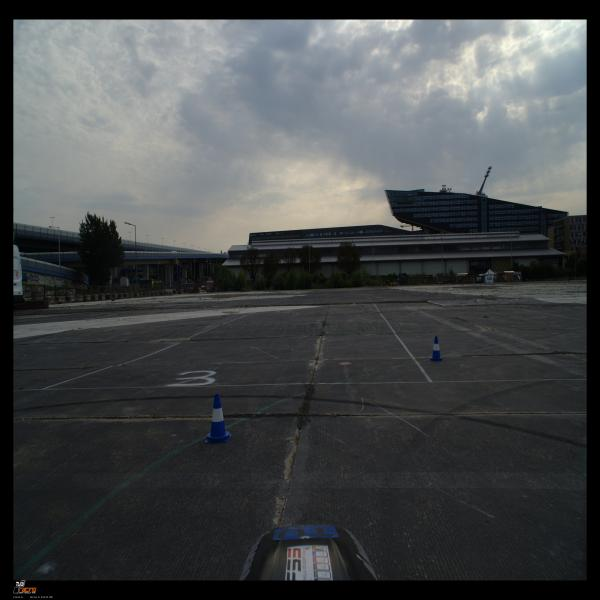blue_cone: (205, 393, 232, 443), (428, 336, 444, 361)
